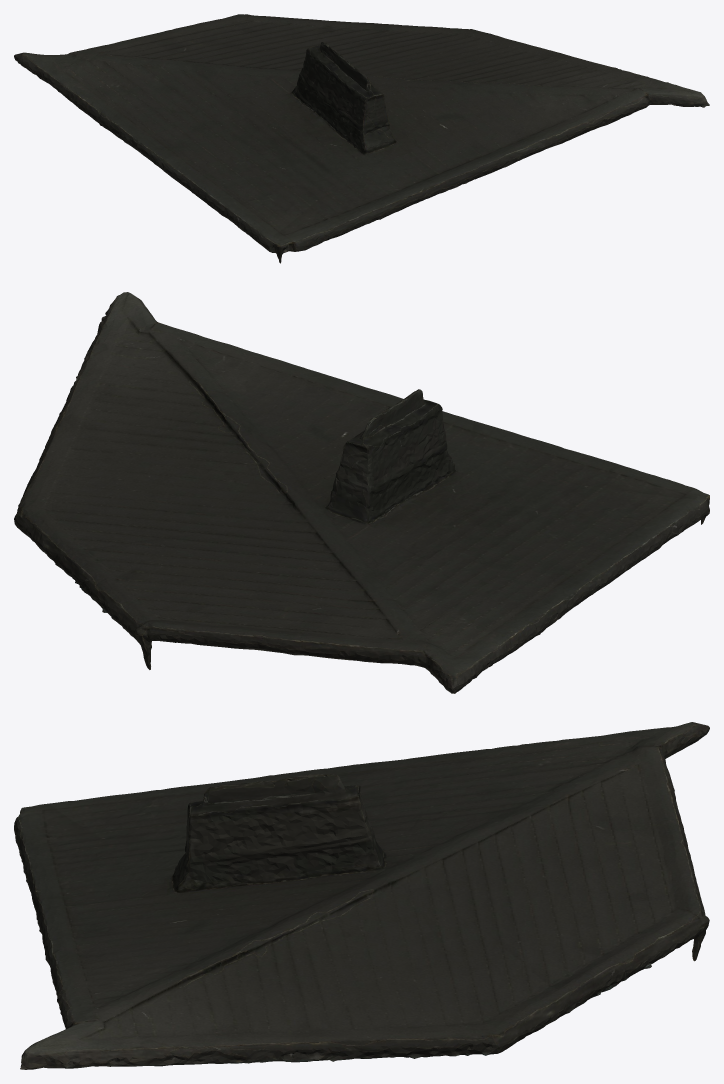
File: katto.obj
3 renders of one model, top to bottom at view 1: azimuth 30°, elevation 25°; view 2: azimuth 150°, elevation 25°; view 3: azimuth 270°, elevation 25°, orthographic. The views are drawn at different scales.
Visible parts, largest first — view 1: katto; view 2: katto; view 3: katto.
Part boxes in pixels (box(x1,y1,x2,y2)): katto: box(14, 14, 709, 263); katto: box(14, 292, 709, 693); katto: box(14, 722, 709, 1069).
Size of the model in its own units: 12.71 by 2.94 by 10.77.
Materials: 1 (1 with a texture image).
